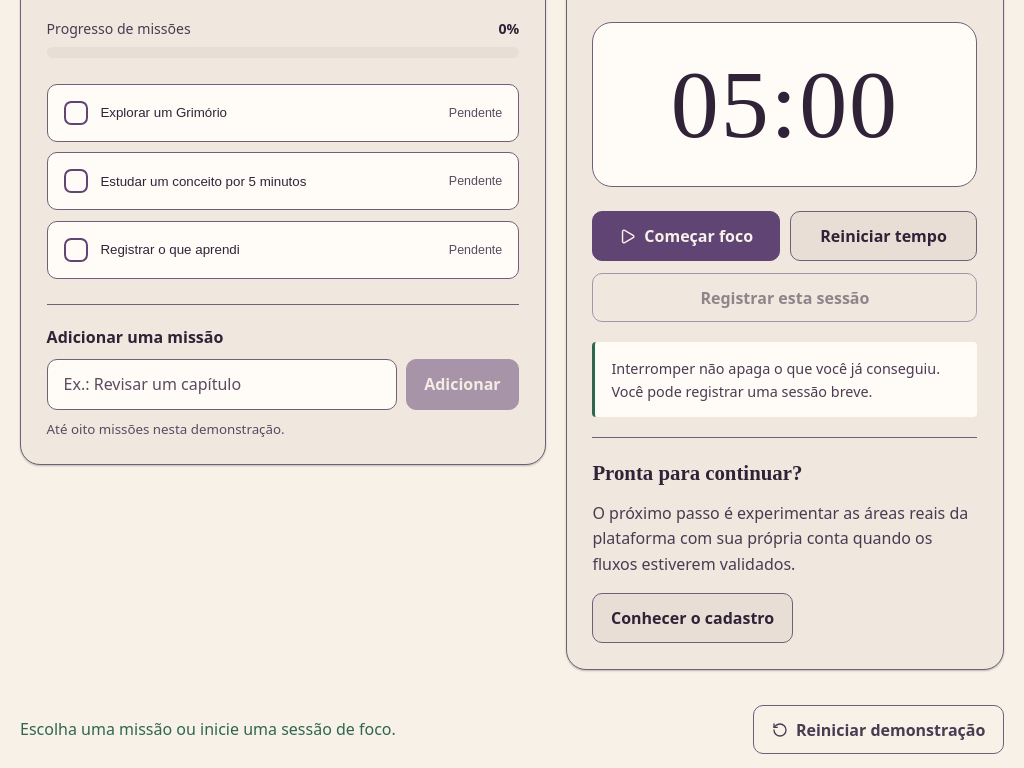
Scenario: public synthetic Arcana MVP › adds an accessible mission and can reset its local journey
The width and height of the screenshot is (1024, 768).
(page scrolled)
Type " Rever   capítulo " into the field labelled "Adicionar uma missão" at (222, 384), box [47,358,397,410]
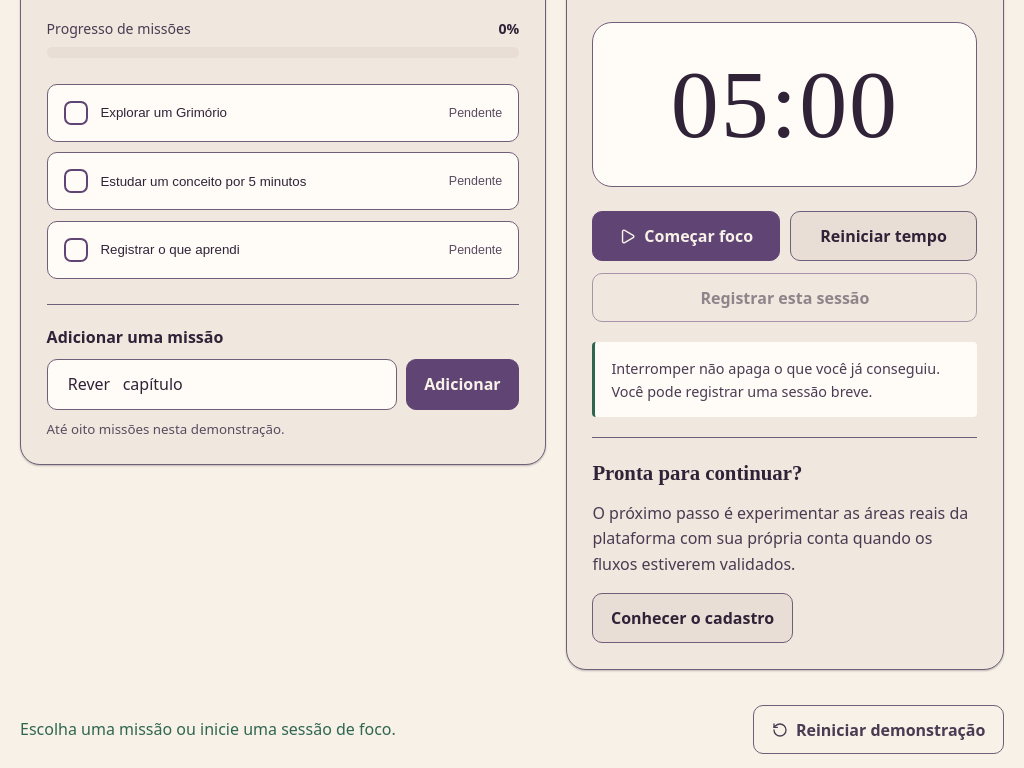
Click the button "Adicionar" at (462, 384), box [406,358,519,410]
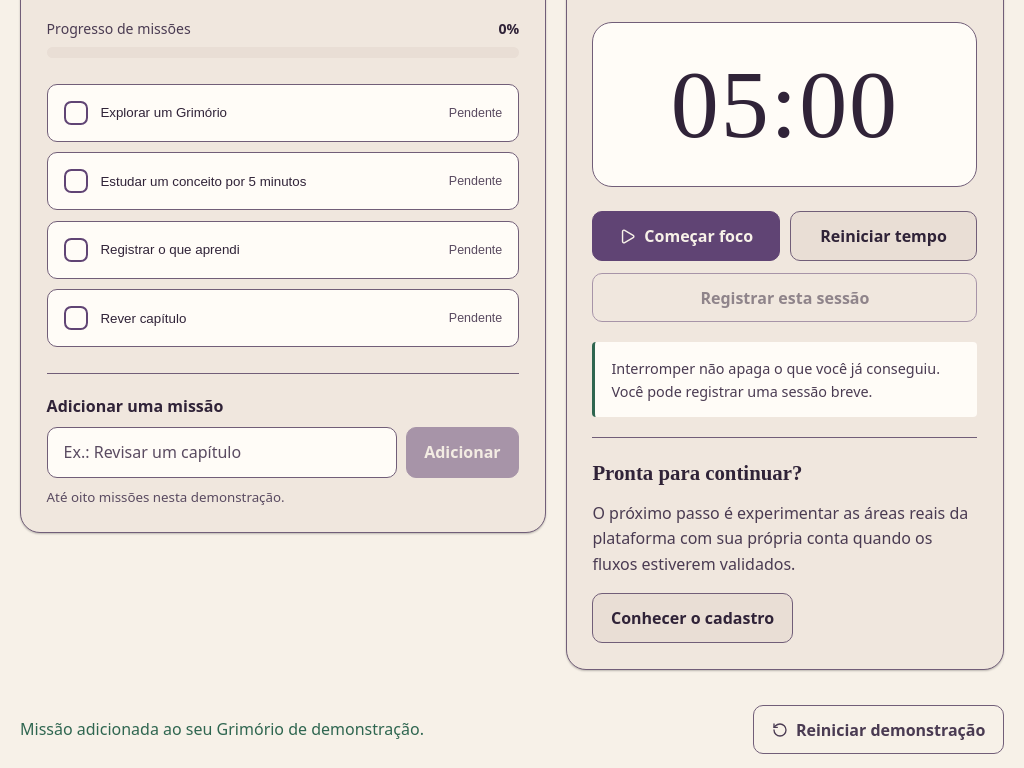
Check: the button "Rever capítulo Pendente" is shown, box [47,289,519,347]
Click the button "Reiniciar demonstração" at (879, 730), box [753,705,1004,754]
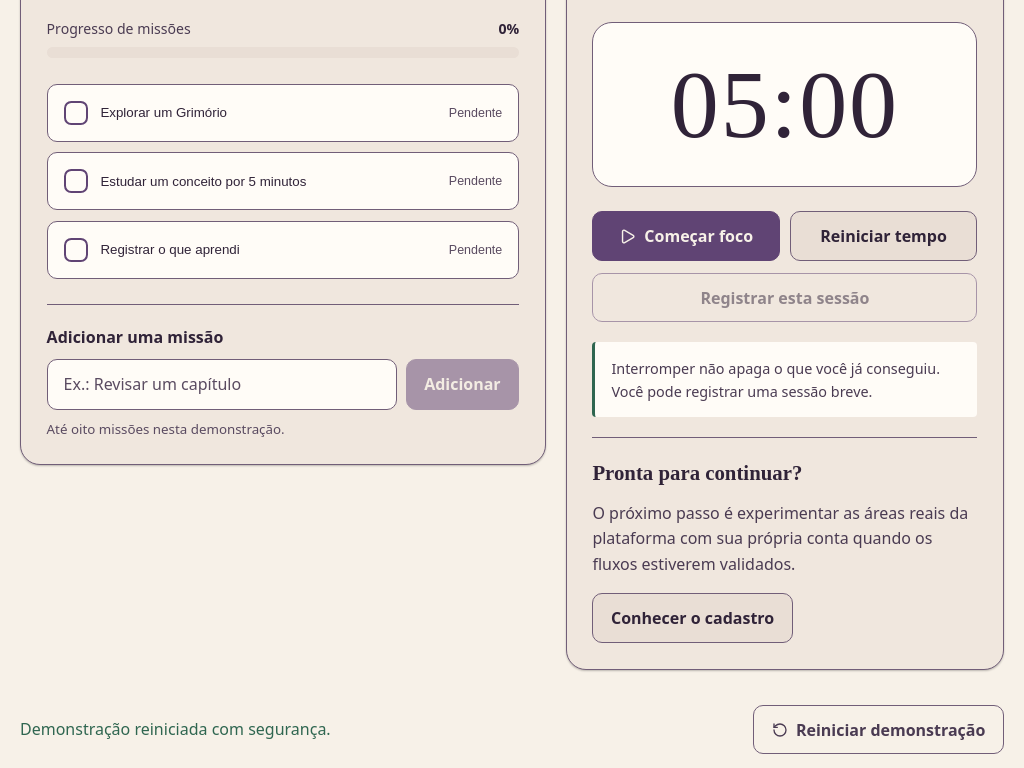
Check: the button "Rever capítulo" is gone
